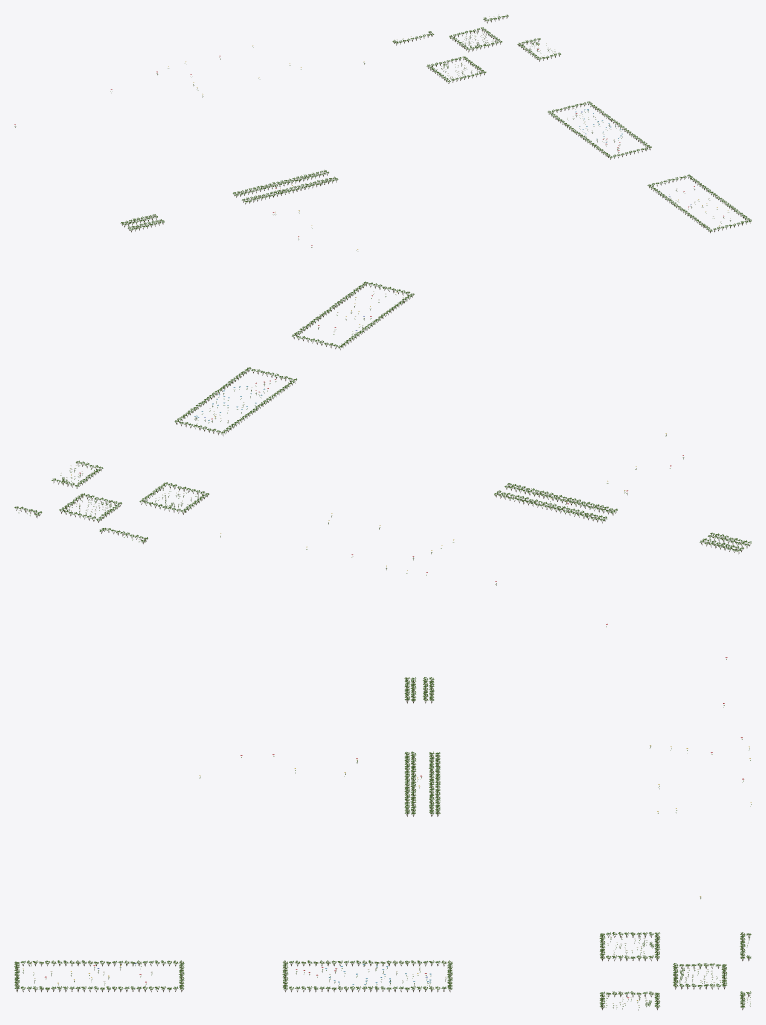
3 views of the same model, one above another, from view 1: azimuth 30°, elevation 25°; view 2: azimuth 150°, elevation 25°; view 3: azimuth 270°, elevation 25° (orthographic). The views are drawn at different scales.
Visible parts, largest first — view 1: GROUND_FLORA_s_-6_-2; view 2: GROUND_FLORA_s_-6_-2; view 3: GROUND_FLORA_s_-6_-2.
Part boxes in pixels (x1=…): GROUND_FLORA_s_-6_-2: x1=14, y1=14, x2=751, y2=250; GROUND_FLORA_s_-6_-2: x1=14, y1=281, x2=751, y2=626; GROUND_FLORA_s_-6_-2: x1=14, y1=657, x2=751, y2=1010.
Size of the model in its own units: 128 by 7.91 by 121.
